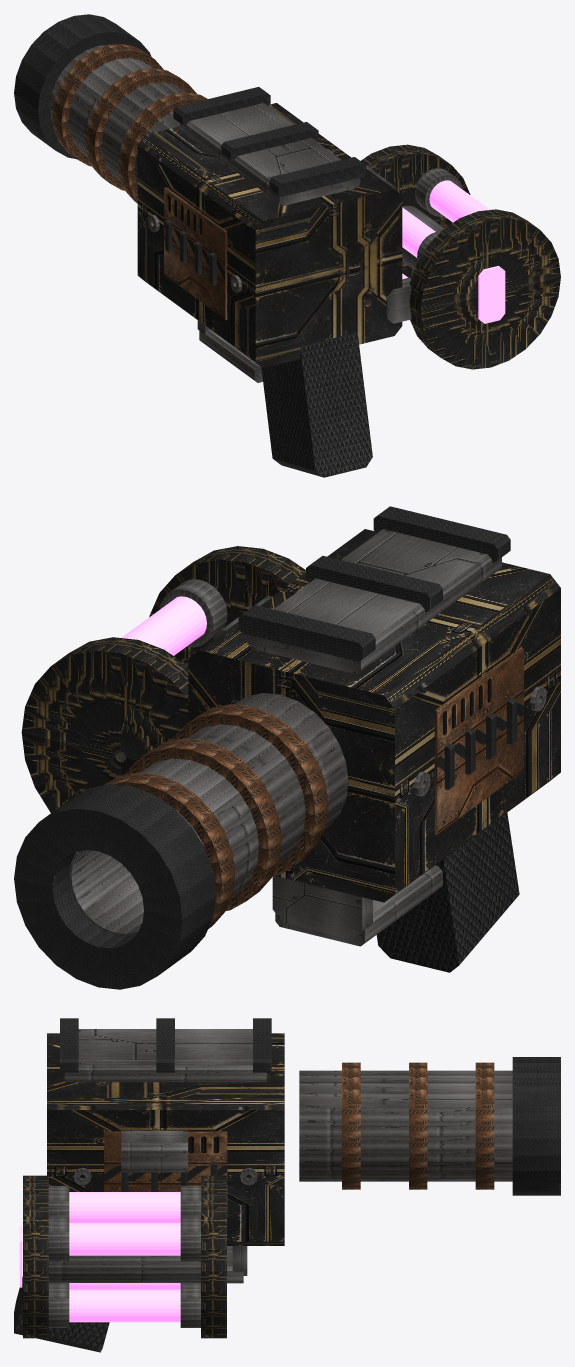
The model's file is plasma_launcher.gltf.
The picture shows the model from 3 angles, top to bottom: view 1: azimuth 30°, elevation 25°; view 2: azimuth 150°, elevation 25°; view 3: azimuth 270°, elevation 25°; orthographic projection. The views are drawn at different scales.
Parts seen in each view (by area): view 1: Receiver, DrumCap (×2), Grip, Collar (×3), TopRail, Muzzle, Barrel, RailNotch (×3), InsetPanel, PlasmaCell (×2), ChargeReadout, TriggerGuard (+3 smaller); view 2: Receiver, Muzzle, DrumCap (×2), Barrel, Collar (×3), TopRail, Grip, RailNotch (×3), InsetPanel, GuardFront, PlasmaCell, TriggerGuard (+1 smaller); view 3: Receiver, Barrel, PlasmaCell (×4), TopRail, DrumCap (×2), Collar (×3), Muzzle, CellSleeve (×6), DrumSpine, InsetPanel, RailNotch (×3), MovingBolt (+2 smaller).
Part boxes in pixels (<box>): Receiver: <box>137,103,402,367</box>; DrumCap (×2): <box>361,144,560,369</box>; Grip: <box>261,332,372,477</box>; Collar (×3): <box>52,44,207,203</box>; TopRail: <box>179,103,360,205</box>; Muzzle: <box>14,14,151,158</box>; Barrel: <box>50,44,185,184</box>; RailNotch (×3): <box>173,87,366,196</box>; InsetPanel: <box>164,187,227,319</box>; PlasmaCell (×2): <box>402,180,489,257</box>; ChargeReadout: <box>478,266,505,323</box>; TriggerGuard: <box>199,329,262,382</box>; Receiver: <box>188,529,560,902</box>; Muzzle: <box>14,784,216,989</box>; DrumCap (×2): <box>21,546,305,812</box>; Barrel: <box>69,693,348,935</box>; Collar (×3): <box>103,704,328,928</box>; TopRail: <box>247,529,501,674</box>; Grip: <box>376,813,519,972</box>; RailNotch (×3): <box>238,506,510,661</box>; InsetPanel: <box>434,647,523,834</box>; GuardFront: <box>272,876,372,939</box>; PlasmaCell: <box>121,596,206,655</box>; TriggerGuard: <box>275,865,442,946</box>; Receiver: <box>47,1033,284,1245</box>; Barrel: <box>299,1070,512,1181</box>; PlasmaCell (×4): <box>69,1192,180,1322</box>; TopRail: <box>64,1029,266,1082</box>; DrumCap (×2): <box>23,1175,226,1338</box>; Collar (×3): <box>342,1062,494,1189</box>; Muzzle: <box>512,1057,560,1195</box>; CellSleeve (×6): <box>48,1186,200,1327</box>; DrumSpine: <box>48,1255,200,1282</box>; InsetPanel: <box>104,1131,227,1220</box>; RailNotch (×3): <box>60,1018,271,1072</box>; MovingBolt: <box>121,1130,187,1172</box>.
Bounding box in the file's own units: 0.3518 × 0.3383 × 0.5527.
Materials: 5 (4 with a texture image).
